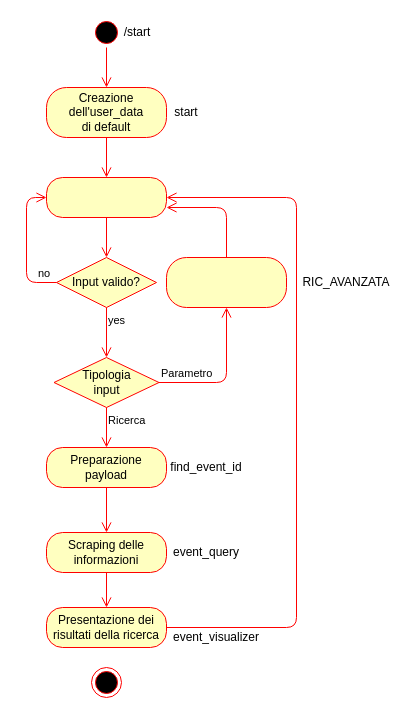
Some shapes in this 414 by 721 pixel diagram are drawn without their labels. Here are the shapes that lost their labels. From the top down, the centre of each, then its label:
the point at 106,197: Attesa input utente
the point at 226,282: Modifica del parametro selezionato
the point at 106,682: In qualunque momento l'utente può uscire dalla conversazione con il bot
